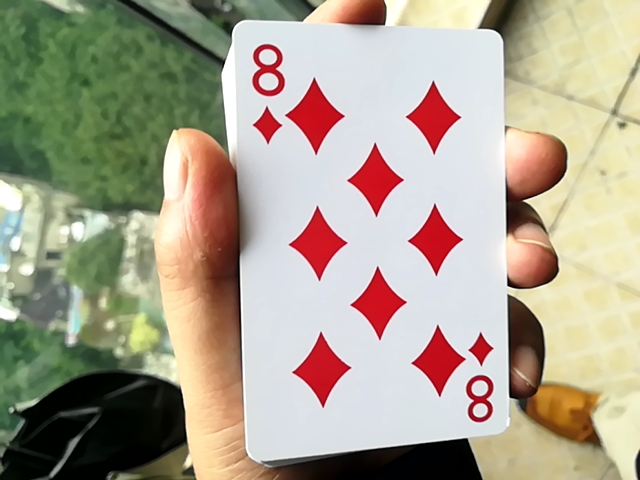fk 8: (215, 2, 509, 463)
